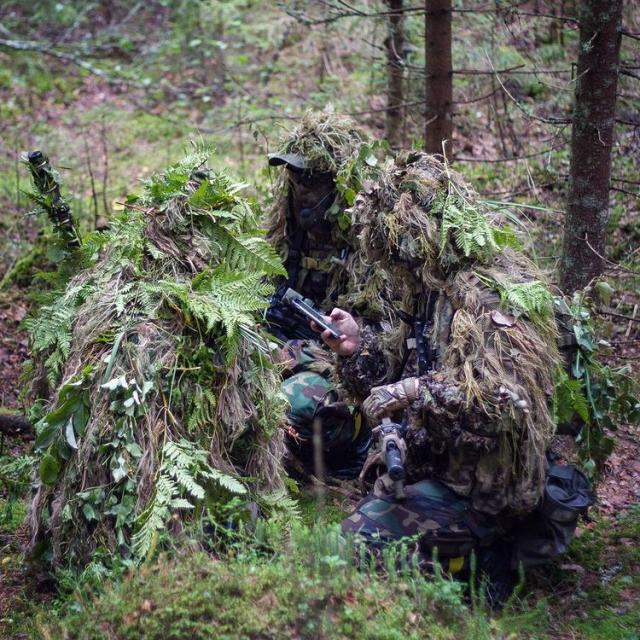Camouflage: (30, 147, 304, 559)
Human: (339, 146, 624, 611), (260, 112, 465, 484)
